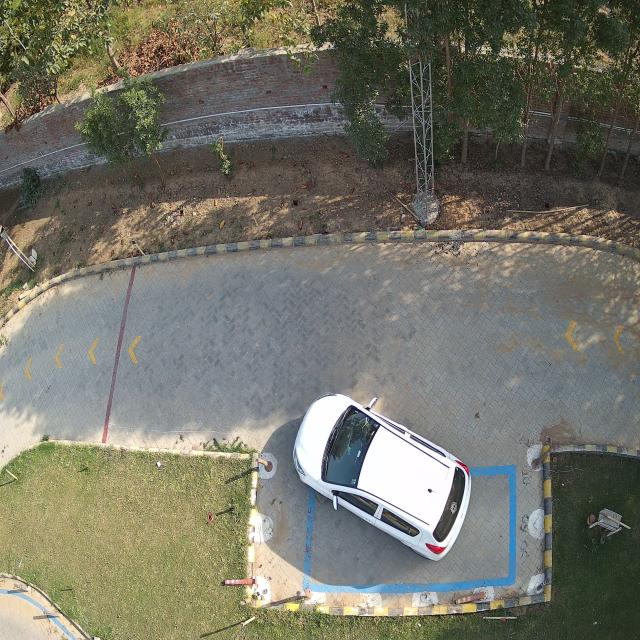car: (292, 393, 471, 560)
